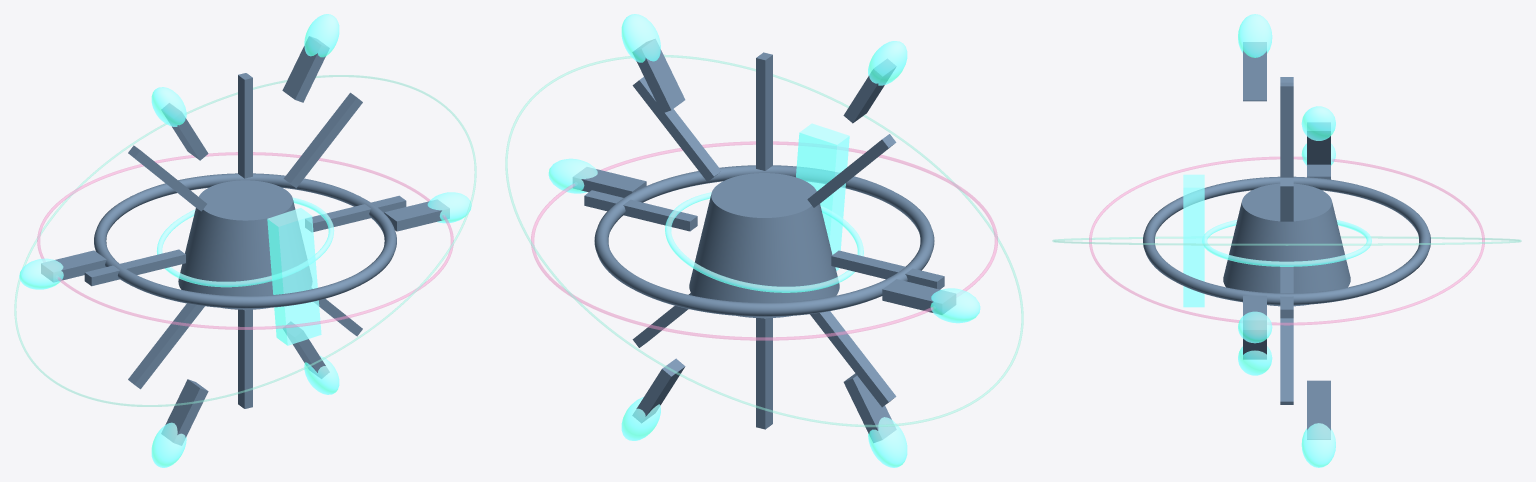
Rendered from mirr-lattice.glb.
3 renders of one model, left to right at view 1: azimuth 30°, elevation 25°; view 2: azimuth 150°, elevation 25°; view 3: azimuth 270°, elevation 25°, orthographic. The views are drawn at different scales.
Parts seen in each view (by area): view 1: central research drum, large lattice dock ring, dorsal mirror bridge, violet beacon orbit, cyan approach lane, radial arm 1, inner optical relay ring, radial arm 5, radial arm 2, laboratory strut 1, laboratory strut 4, radial arm 6 (+14 smaller); view 2: central research drum, large lattice dock ring, cyan approach lane, dorsal mirror bridge, violet beacon orbit, inner optical relay ring, radial arm 5, radial arm 2, radial arm 1, laboratory strut 1, radial arm 6, radial arm 0 (+14 smaller); view 3: central research drum, large lattice dock ring, violet beacon orbit, dorsal mirror bridge, cyan approach lane, inner optical relay ring, laboratory strut 2, laboratory strut 5, radial arm 2, glass lab bead 5, radial arm 7, glass lab bead 2 (+8 smaller).
Boxes of the visible parts, x1,y1,x2,y2 form: central research drum: [178, 180, 312, 309]; large lattice dock ring: [94, 173, 396, 308]; dorsal mirror bridge: [267, 208, 321, 345]; violet beacon orbit: [37, 152, 453, 329]; cyan approach lane: [14, 75, 476, 406]; radial arm 1: [283, 92, 362, 188]; inner optical relay ring: [156, 197, 334, 287]; radial arm 5: [128, 303, 204, 389]; radial arm 2: [238, 73, 252, 178]; laboratory strut 1: [282, 36, 329, 102]; laboratory strut 4: [161, 379, 208, 445]; radial arm 6: [238, 309, 252, 408]; central research drum: [689, 173, 839, 318]; large lattice dock ring: [594, 165, 934, 316]; cyan approach lane: [505, 54, 1023, 427]; dorsal mirror bridge: [796, 123, 849, 270]; violet beacon orbit: [531, 141, 997, 340]; inner optical relay ring: [665, 192, 863, 292]; radial arm 5: [810, 311, 896, 407]; radial arm 2: [756, 52, 772, 170]; radial arm 1: [632, 77, 721, 181]; laboratory strut 1: [632, 39, 685, 113]; radial arm 6: [756, 318, 772, 429]; radial arm 0: [584, 190, 697, 231]; central research drum: [1223, 183, 1350, 306]; large lattice dock ring: [1143, 176, 1430, 305]; violet beacon orbit: [1089, 156, 1484, 325]; dorsal mirror bridge: [1183, 174, 1204, 307]; cyan approach lane: [1052, 236, 1521, 245]; inner optical relay ring: [1202, 220, 1371, 266]; laboratory strut 2: [1243, 42, 1266, 101]; laboratory strut 5: [1307, 380, 1330, 439]; radial arm 2: [1280, 82, 1293, 177]; glass lab bead 5: [1301, 423, 1335, 467]; radial arm 7: [1280, 318, 1293, 404]; glass lab bead 2: [1238, 14, 1272, 57].
Size of the model in its own units: 343 by 299 by 354.
